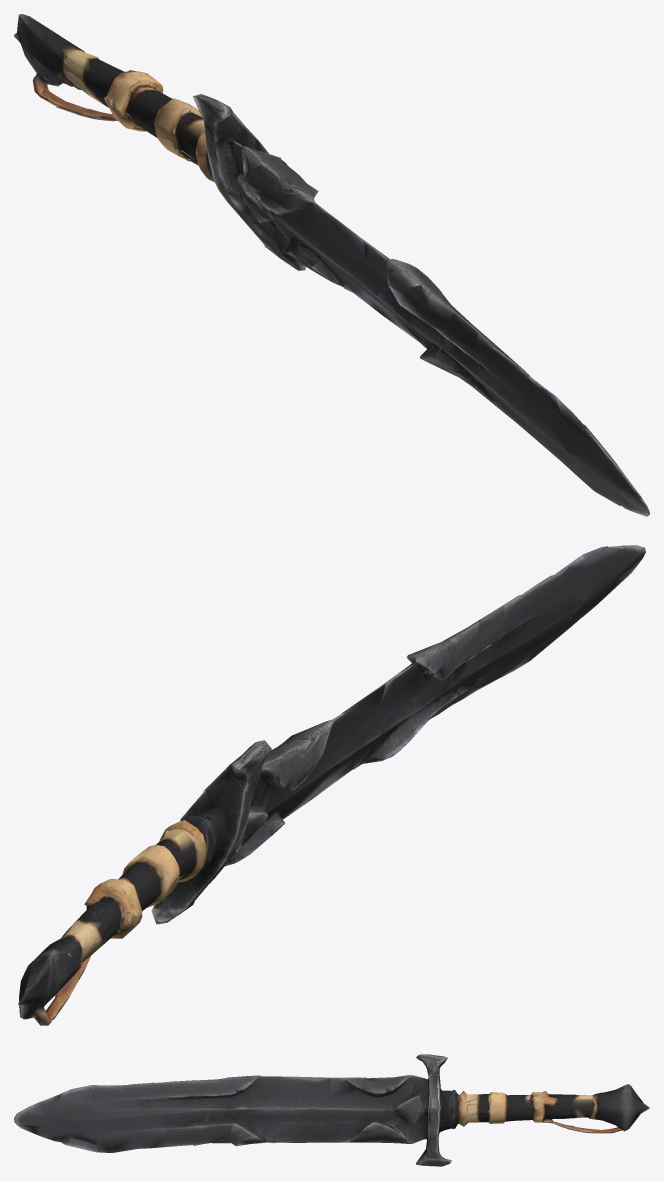
File: stalker_weapon_3.glb
The picture shows the model from 3 angles, top to bottom: view 1: azimuth 30°, elevation 25°; view 2: azimuth 150°, elevation 25°; view 3: azimuth 270°, elevation 25°; orthographic projection. The views are drawn at different scales.
Parts seen in each view (by area): view 1: stalker_weapon_3; view 2: stalker_weapon_3; view 3: stalker_weapon_3.
Boxes of the visible parts, <box> form: stalker_weapon_3: <box>14,14,649,516</box>; stalker_weapon_3: <box>18,545,645,1025</box>; stalker_weapon_3: <box>14,1054,649,1166</box>.
Size of the model in its own units: 0.0317 by 0.0613 by 0.38.
Materials: 1 (1 with a texture image).
